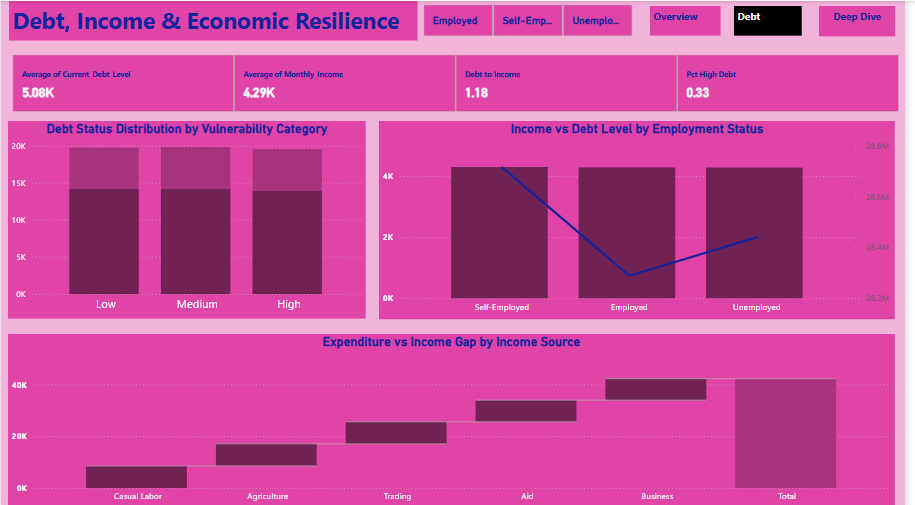

What the dashboard file says about the page in this screenshot:
{"tool":"powerbi","page":{"name":"Debt, Income & Economic Resilience","canvas":[1280,720],"ordinal":1},"visuals":[{"type":"cardVisual","fields":{"Data":["Avg(kakuma_cleaned.Current_Debt_Level)","Avg(kakuma_cleaned.Monthly_Income)","DAX Measures.Debt to Income","DAX Measures.Pct High Debt %"]},"box":[11.5,70.8,1268.8,91.7],"z":0},{"type":"columnChart","title":"Debt Status Distribution by Vulnerability Category","fields":{"Category":["kakuma_cleaned.Debt_Status"],"Y":["Sum(kakuma_cleaned.Vulnerability_Category)","DAX Measures.Total HH"]},"box":[10.4,169.8,507.3,280.2],"z":1000},{"type":"lineClusteredColumnComboChart","title":"Income vs Debt Level by Employment Status","fields":{"Category":["kakuma_cleaned.Employment_Status"],"Y":["Avg(kakuma_cleaned.Monthly_Income)"],"Y2":["Sum(kakuma_cleaned.Current_Debt_Level)"]},"box":[535.4,169.8,731.2,281.2],"z":2000},{"type":"textbox","box":[11.5,0,578.8,55.8],"z":3000},{"type":"waterfallChart","title":"Expenditure vs Income Gap by Income Source","fields":{"Category":["kakuma_cleaned.Primary_Income_Source"],"Y":["Sum(kakuma_cleaned.Vulnerability_Category)"]},"box":[10,471.7,1256.7,248.3],"z":4000},{"type":"advancedSlicerVisual","fields":{"Values":["kakuma_cleaned.Employment_Status"]},"box":[594.2,0,307.7,55.8],"z":5000},{"type":"textbox","box":[919.2,7.7,100,42.3],"z":6000},{"type":"textbox","box":[1038.5,7.7,96.2,42.3],"z":7000},{"type":"textbox","box":[1159.4,7.1,107.7,42.5],"z":8000}]}

Visuals, with their boxes in screenshot pixels (x1, y1, x2, y2), scaled from the page's 1280x720 canvas onto the 915x505 screenshot:
cardVisual - Avg(kakuma_cleaned.Current_Debt_Level) x Avg(kakuma_cleaned.Monthly_Income): (x1=8, y1=50, x2=914, y2=114)
"Debt Status Distribution by Vulnerability Category" columnChart: (x1=7, y1=119, x2=370, y2=316)
"Income vs Debt Level by Employment Status" lineClusteredColumnComboChart: (x1=383, y1=119, x2=905, y2=316)
textbox: (x1=8, y1=0, x2=422, y2=39)
"Expenditure vs Income Gap by Income Source" waterfallChart: (x1=7, y1=331, x2=905, y2=504)
advancedSlicerVisual - kakuma_cleaned.Employment_Status: (x1=425, y1=0, x2=645, y2=39)
textbox: (x1=657, y1=5, x2=729, y2=35)
textbox: (x1=742, y1=5, x2=811, y2=35)
textbox: (x1=829, y1=5, x2=906, y2=35)
